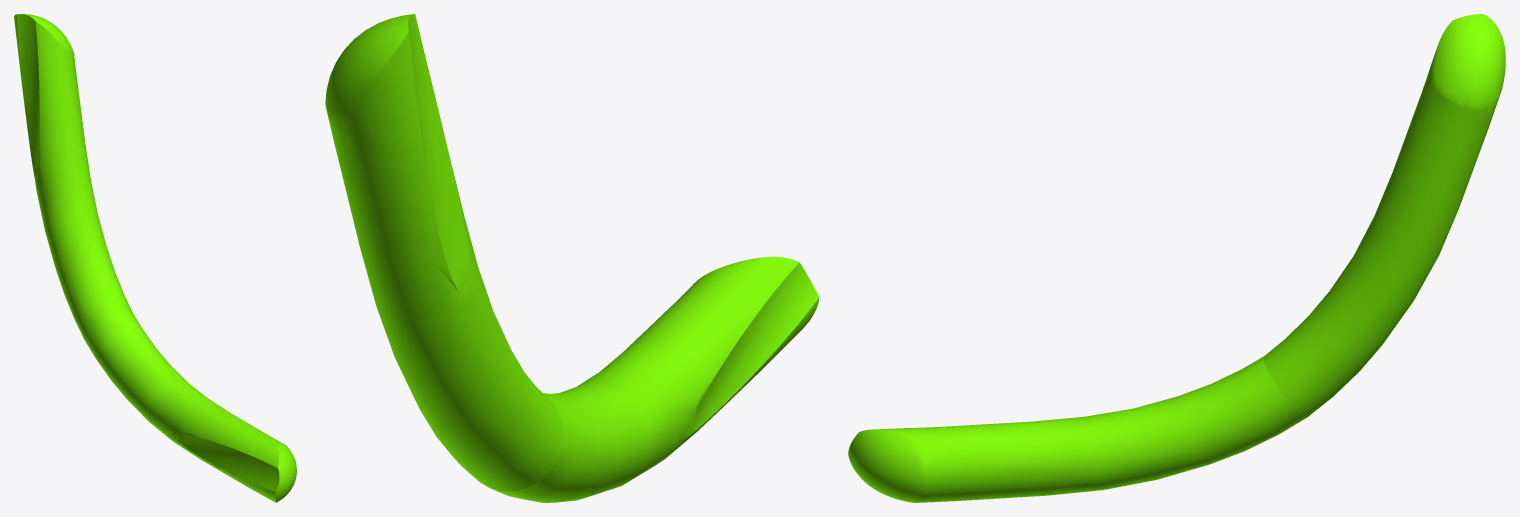
Rendered from chair_027_06.obj.
3 renders of one model, left to right at view 1: azimuth 30°, elevation 25°; view 2: azimuth 150°, elevation 25°; view 3: azimuth 270°, elevation 25°, orthographic. The views are drawn at different scales.
Size of the model in its own units: 27.52 by 121 by 157.
